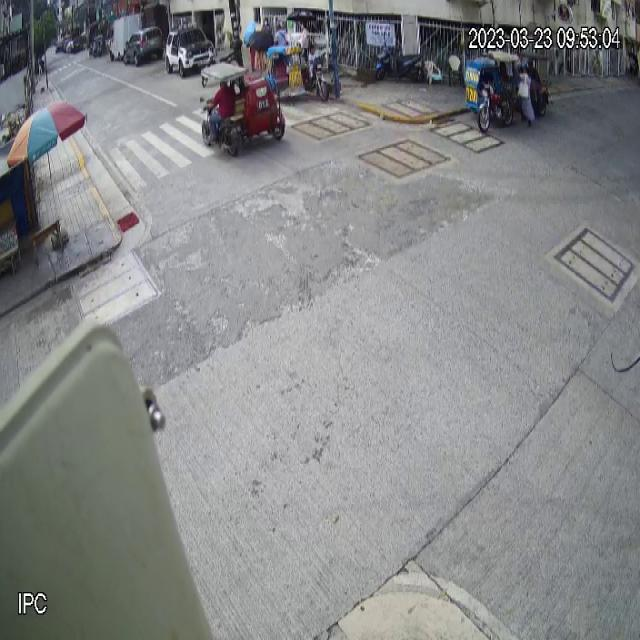Tricycle: (199, 60, 286, 158), (464, 49, 518, 133), (266, 45, 329, 104)
